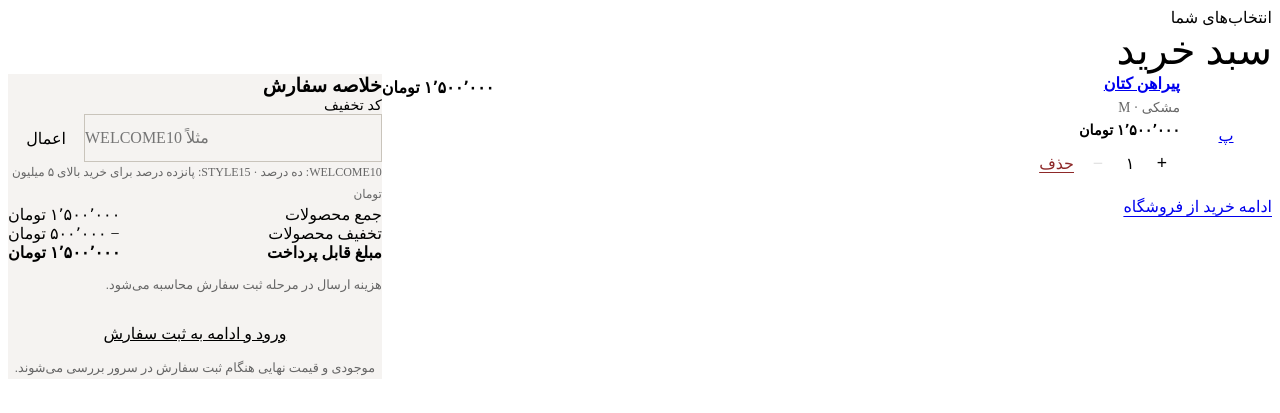
Test: does not apply a coupon that misses its minimum subtotal
This screenshot has width=1280, height=413.
Type "STYLE15" into the field labelled "کد تخفیف".
click(233, 138); type("STYLE15")  # box [84,114,382,162]
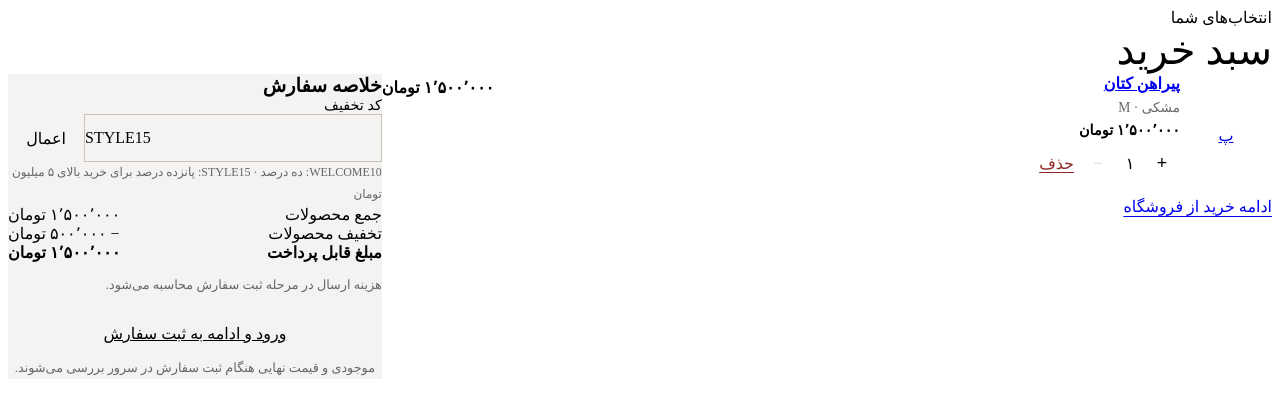
Click the button "اعمال".
click(46, 138)  # box [8,114,84,162]
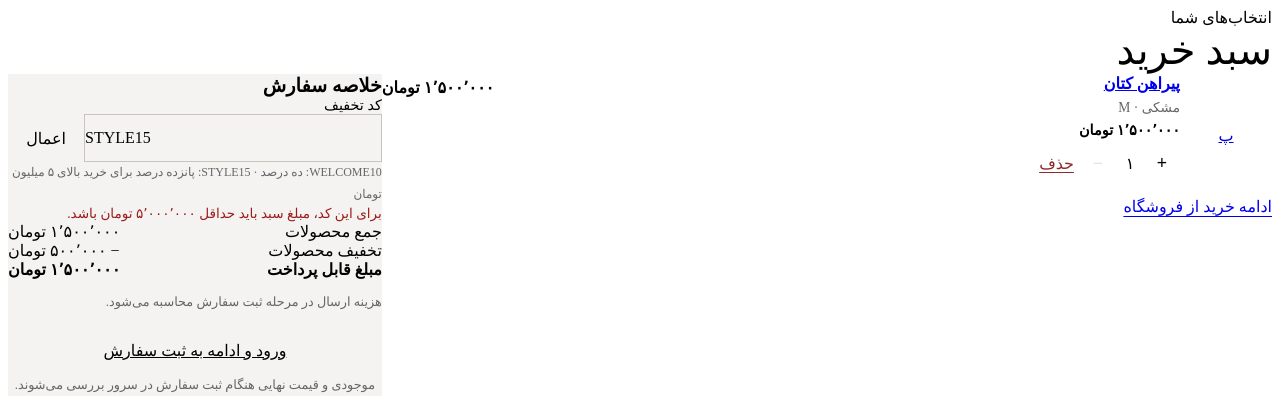
Check: the message shows "حداقل ۵٬۰۰۰٬۰۰۰ تومان", box [67,206,382,221]
